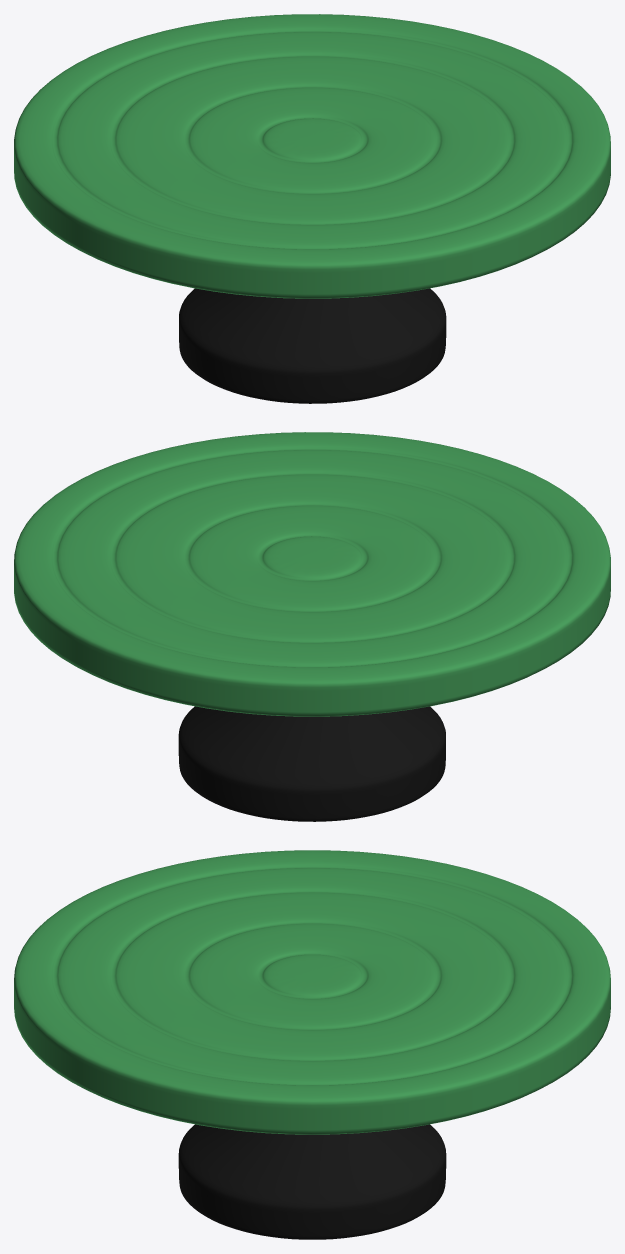
File: TurnTable.fbx
3 renders of one model, top to bottom at view 1: azimuth 30°, elevation 25°; view 2: azimuth 150°, elevation 25°; view 3: azimuth 270°, elevation 25°, orthographic.
Parts seen in each view (by area): view 1: pCylinder2, pCylinder3; view 2: pCylinder2, pCylinder3; view 3: pCylinder2, pCylinder3.
Part boxes in pixels (<box>): pCylinder2: <box>14,14,610,298</box>; pCylinder3: <box>179,288,446,403</box>; pCylinder2: <box>14,432,610,716</box>; pCylinder3: <box>178,706,445,821</box>; pCylinder2: <box>14,850,610,1134</box>; pCylinder3: <box>178,1124,446,1239</box>.
Size of the model in its own units: 5.63 by 2.2 by 5.63.
